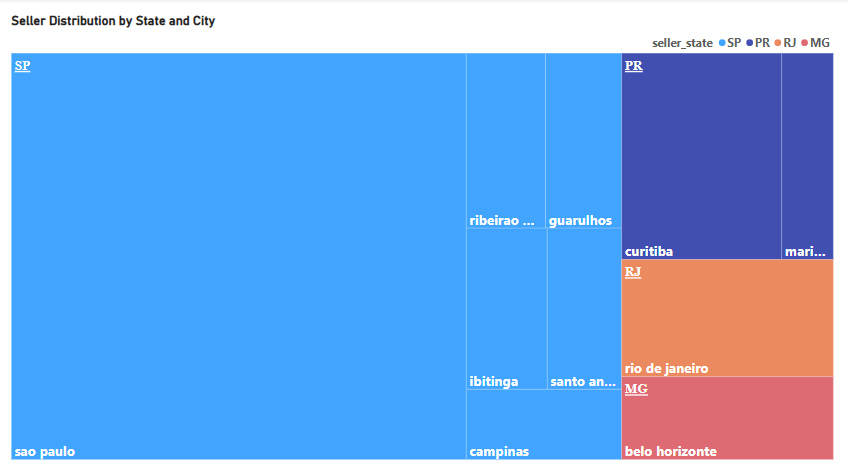

The dashboard page shown, as its layout file describes it:
{"tool":"powerbi","page":{"name":"Seller distisbution by states","canvas":[1280,720],"ordinal":5},"visuals":[{"type":"treemap","title":"Seller Distribution by State and City","fields":{"Group":["top 10 selles cities come under what states.seller_state"],"Details":["top 10 selles cities come under what states.seller_city"],"Values":["Sum(top 10 selles cities come under what states.number_sellers)"]},"box":[21.1,22.8,1237.9,672.5],"z":0}]}

Visuals, with their boxes in screenshot pixels (x1, y1, x2, y2), scaled from the page's 1280x720 canvas onto the 848x473 screenshot:
"Seller Distribution by State and City" treemap: [14,15,834,457]
